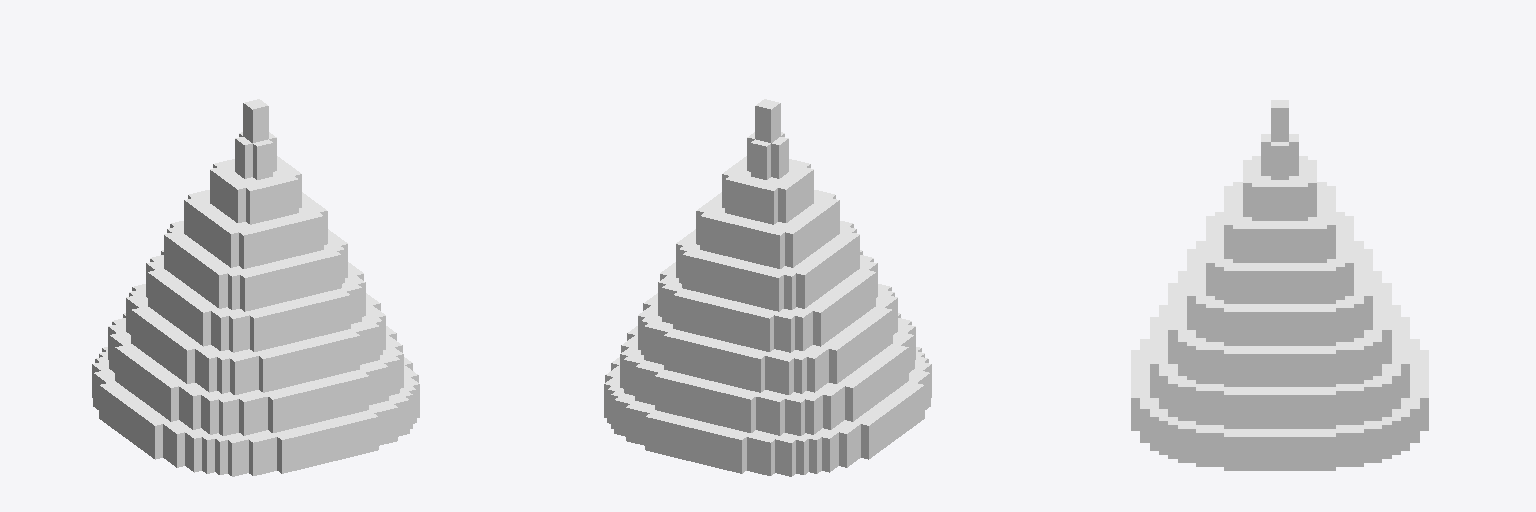
The model's file is pineleaves.obj.
3 renders of one model, left to right at view 1: azimuth 30°, elevation 25°; view 2: azimuth 150°, elevation 25°; view 3: azimuth 270°, elevation 25°, orthographic.
Visible parts, largest first — view 1: pineleaves; view 2: pineleaves; view 3: pineleaves.
Part boxes in pixels (left/top/right/bottom): pineleaves: left=92, top=99, right=419, bottom=476; pineleaves: left=604, top=99, right=931, bottom=476; pineleaves: left=1131, top=100, right=1428, bottom=470.
Bounding box in the file's own units: 3.2 × 3.6 × 3.2.